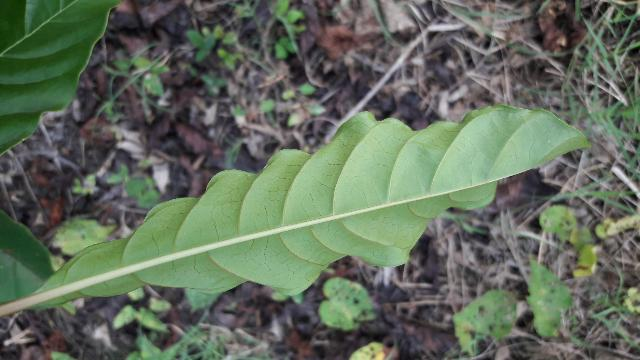healthy: (34, 112, 587, 303)
